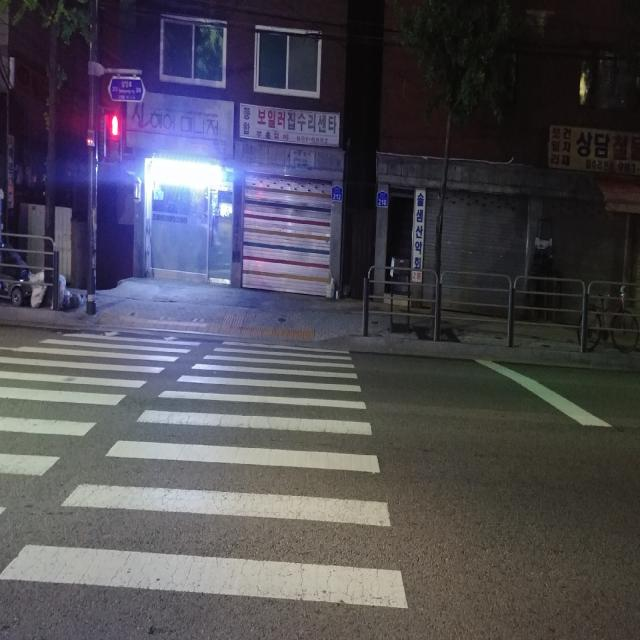빨간불: (105, 110, 121, 164)
횡단보도: (0, 329, 408, 611)
